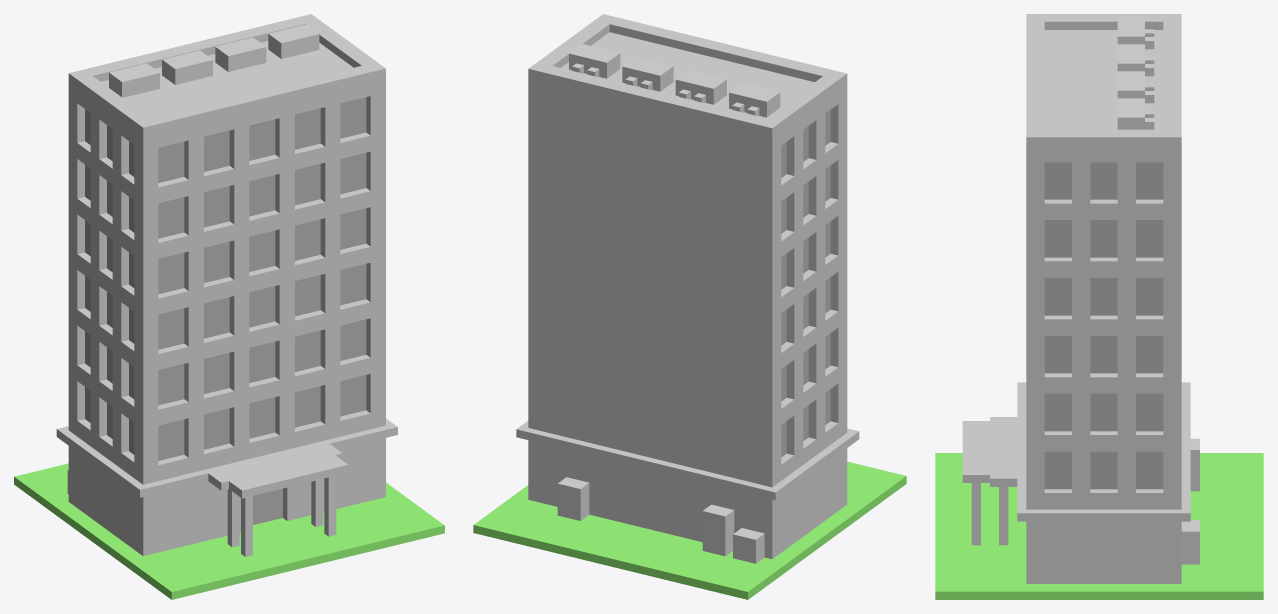
The picture shows the model from 3 angles, left to right: view 1: azimuth 30°, elevation 25°; view 2: azimuth 150°, elevation 25°; view 3: azimuth 270°, elevation 25°; orthographic projection. The views are drawn at different scales.
Parts seen in each view (by area): view 1: building; view 2: building; view 3: building.
Boxes of the visible parts, bbox=[...] form: building: bbox=[14, 14, 444, 599]; building: bbox=[473, 14, 906, 599]; building: bbox=[935, 14, 1263, 599].
Size of the model in its own units: 45 by 70 by 45.
